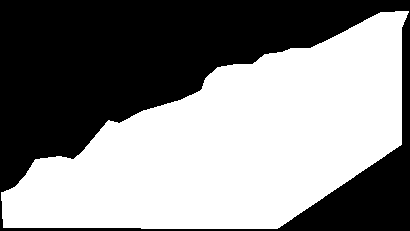Fire: (179, 50, 399, 211)
